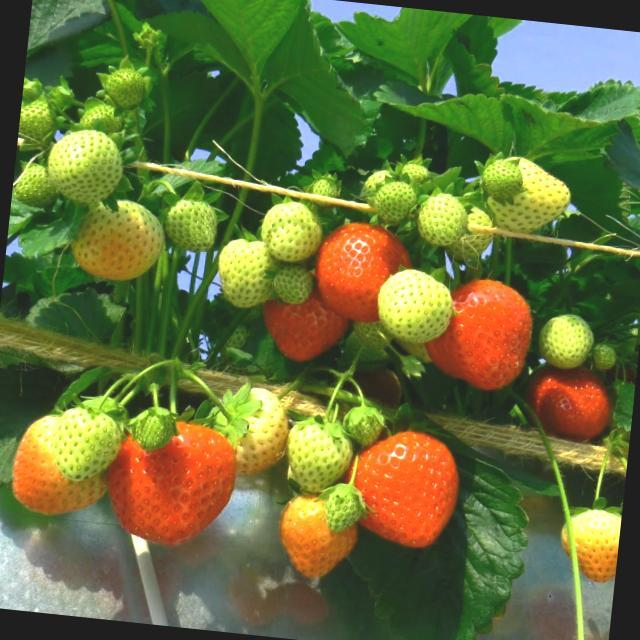ripe: (103, 410, 232, 549), (335, 422, 461, 548), (428, 272, 528, 394), (309, 217, 412, 328), (260, 275, 358, 361), (530, 363, 609, 440)
unripe: (8, 401, 110, 522), (470, 147, 579, 244), (208, 379, 297, 477), (71, 200, 167, 286), (369, 265, 456, 348), (276, 410, 354, 492), (44, 397, 118, 482), (45, 128, 126, 201), (208, 234, 286, 309), (251, 190, 328, 264), (558, 504, 621, 582), (406, 184, 468, 254), (163, 190, 222, 255), (538, 305, 590, 369), (96, 64, 158, 113), (316, 482, 366, 532), (370, 172, 412, 231), (13, 158, 56, 212), (22, 88, 54, 144), (586, 334, 624, 375)
